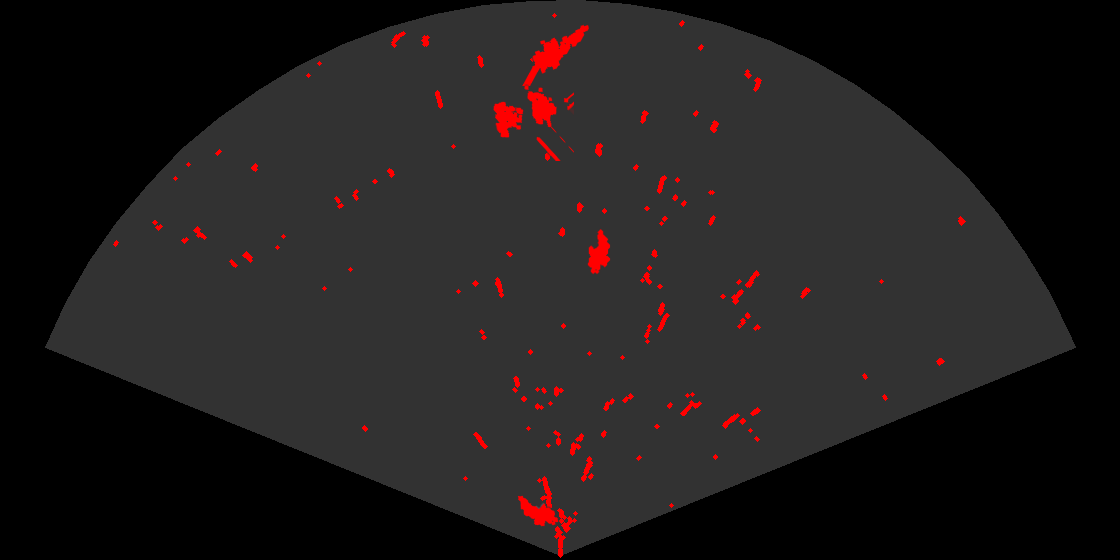AUV: (516, 494, 560, 528), (586, 227, 611, 276)
cage: (492, 84, 574, 161)
frogman: (521, 23, 591, 86)
